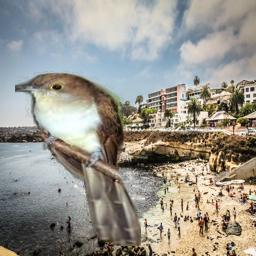Cuckoo: (15, 71, 141, 246)
